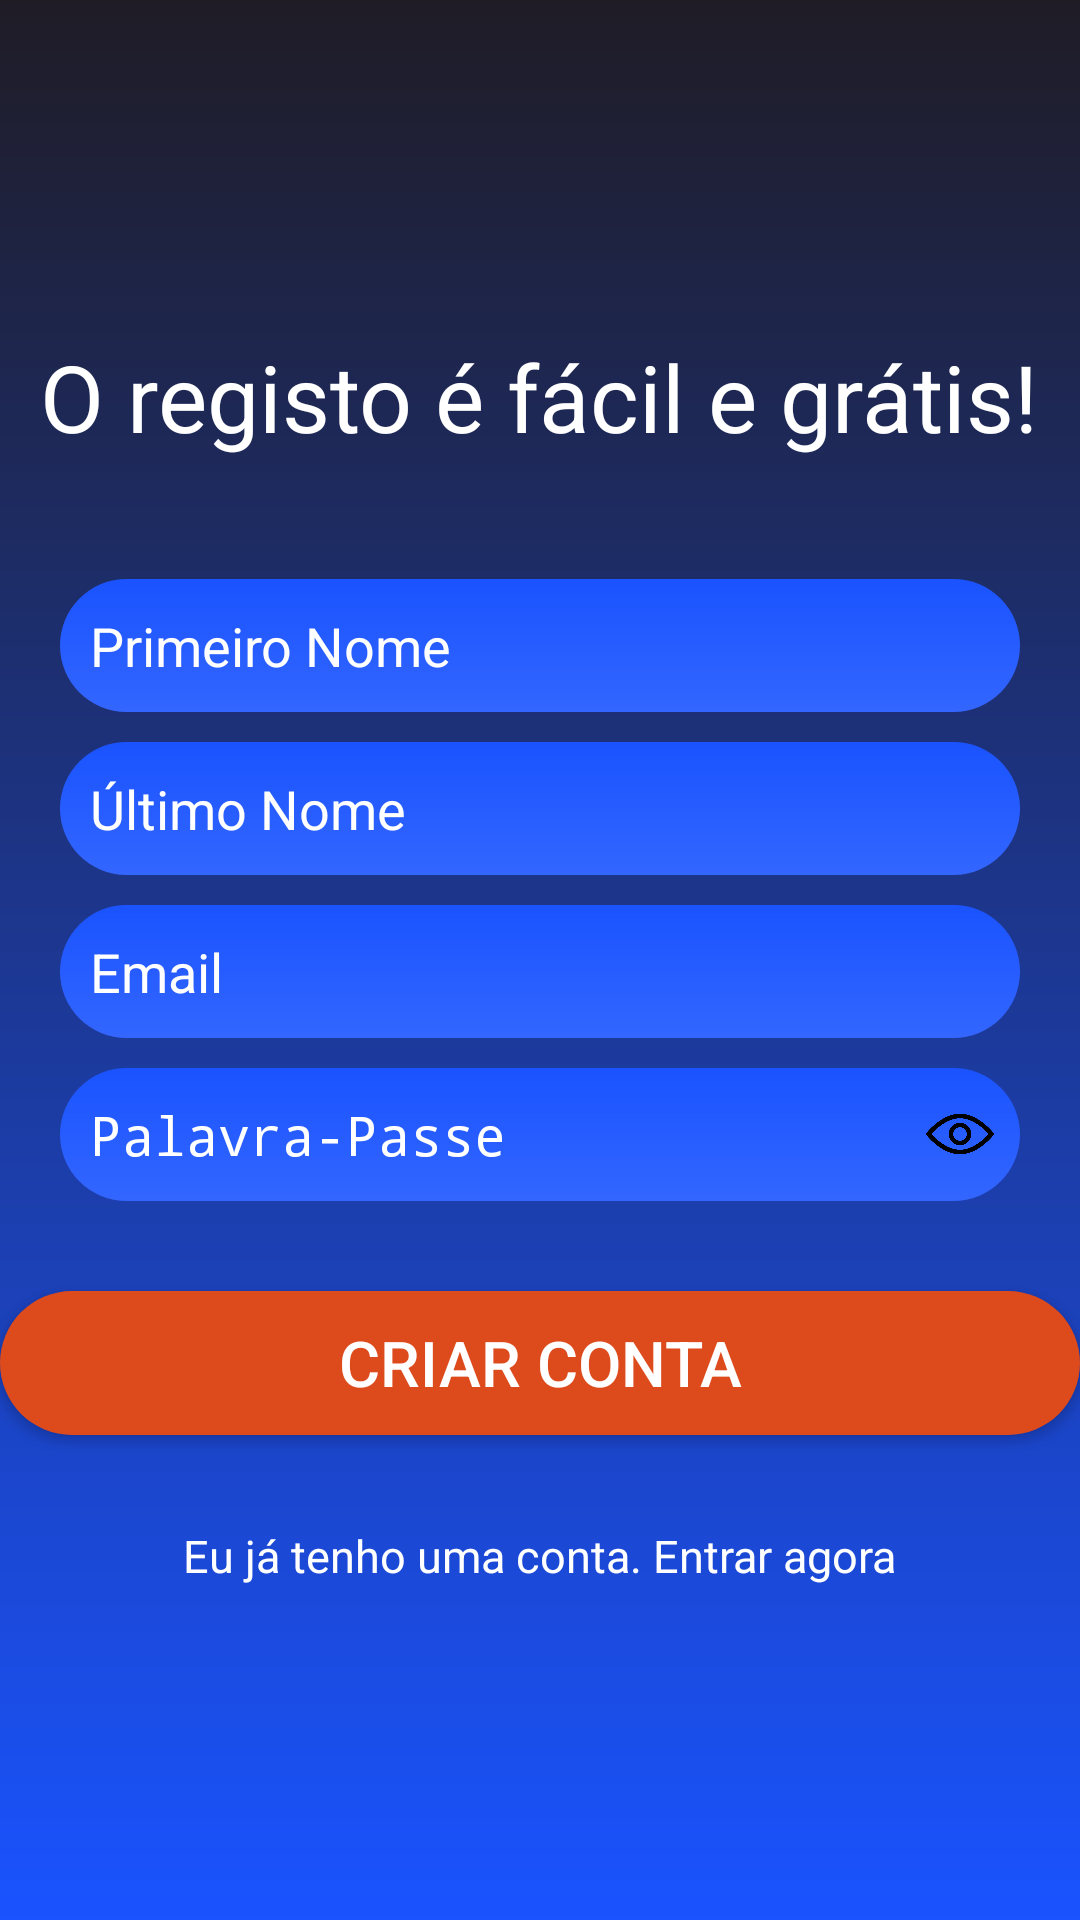

Icons on this 1080px×1920px Android screen, each with the point to tap as point (x, y):
show: point (960, 1134)
